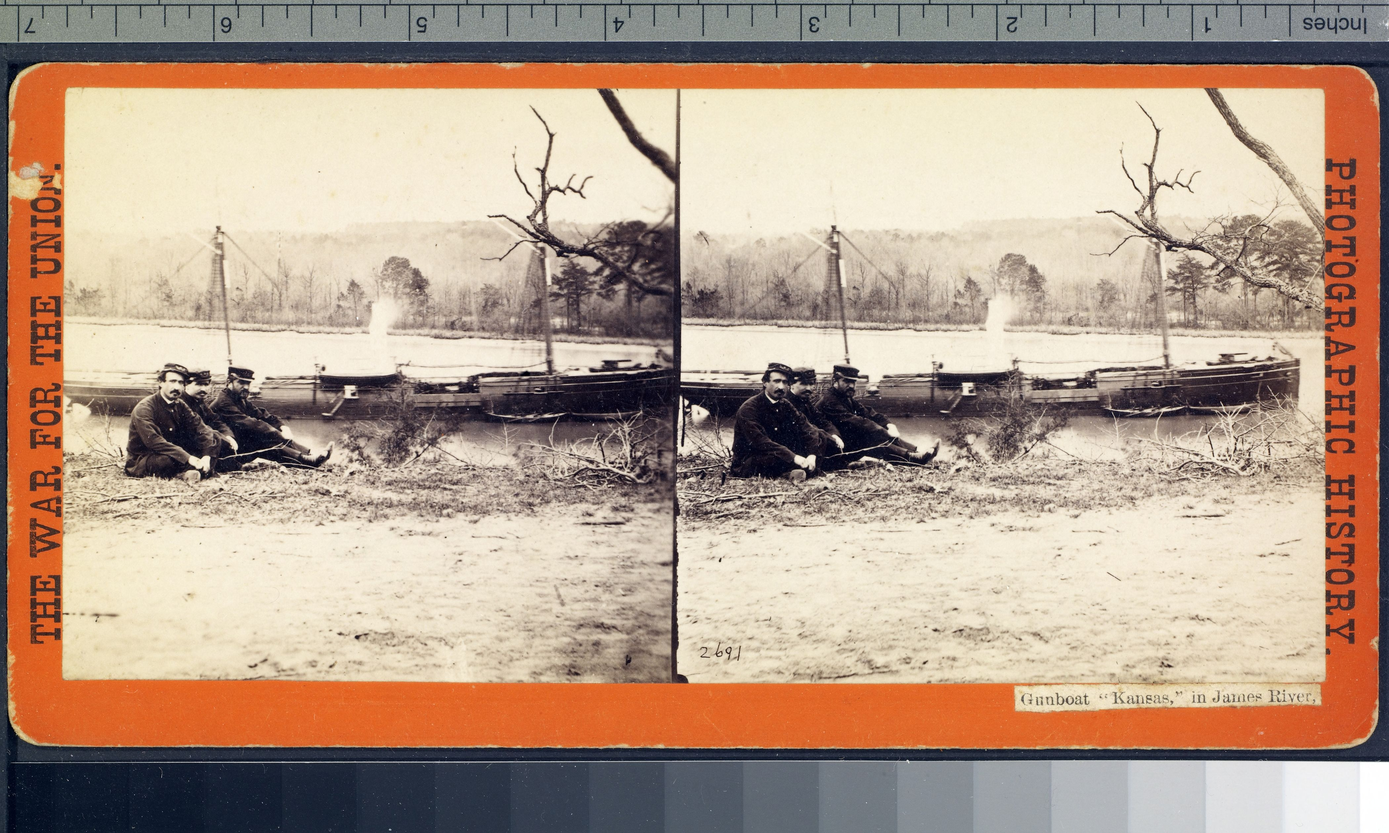half_image: (680, 91, 1325, 683), (64, 90, 675, 684)
